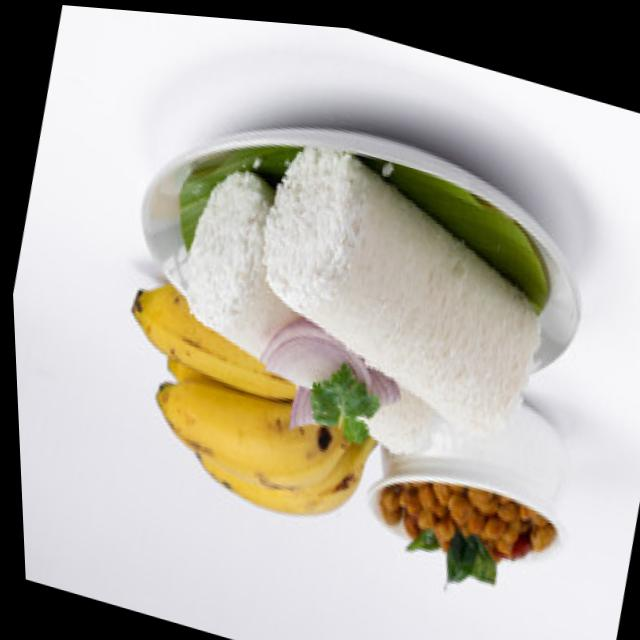BANANA: (130, 279, 374, 513)
PUTTU: (170, 140, 552, 460)
SUNDAL: (356, 464, 557, 568)
